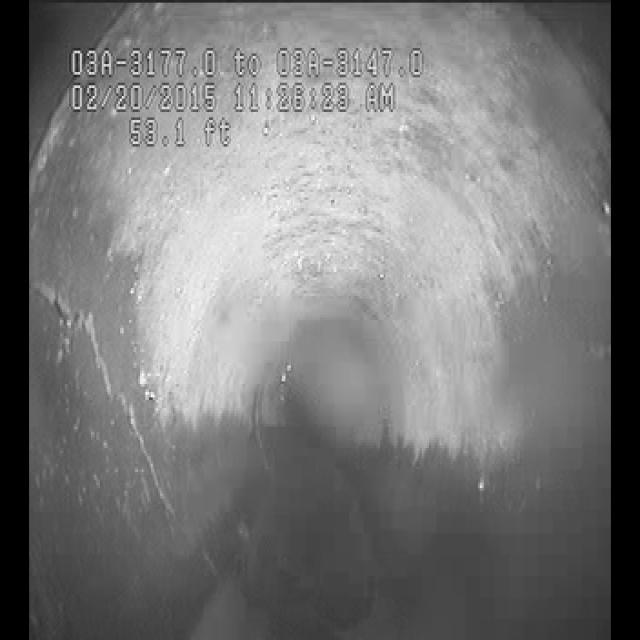Crack: (39, 252, 211, 546)
